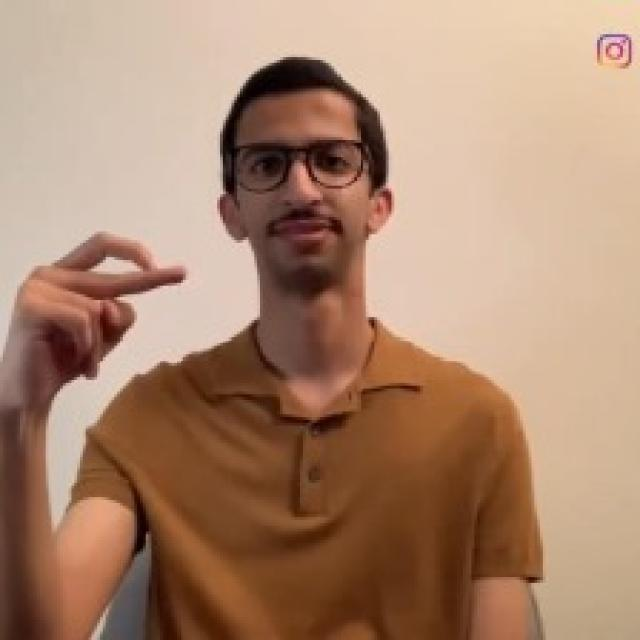sunday: (5, 221, 190, 389)
